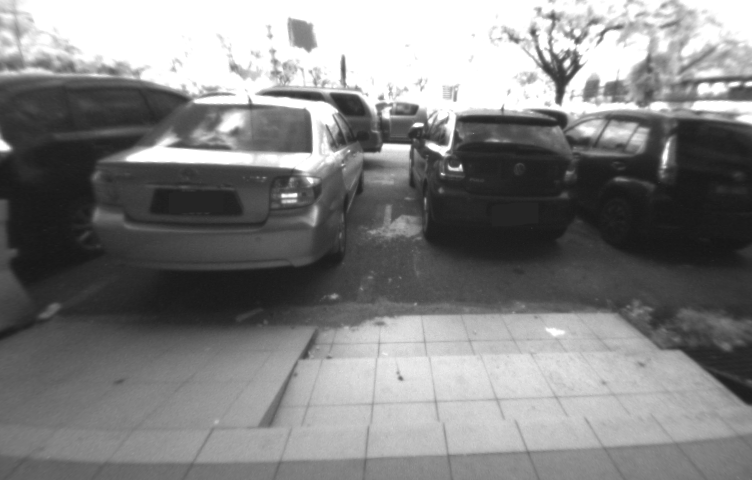down_steps: (261, 304, 743, 434)
mixed_gradient: (220, 313, 339, 448)
